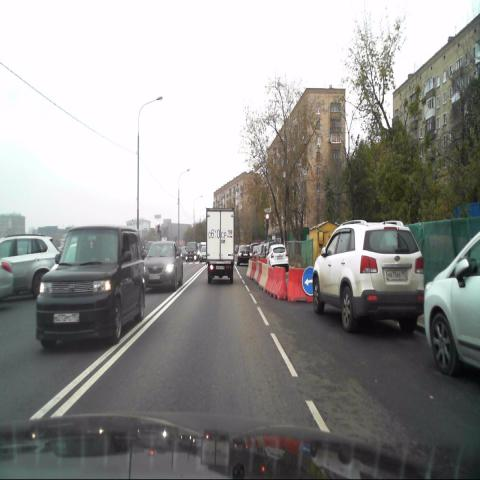4_1_2_2: (302, 265, 314, 295)
